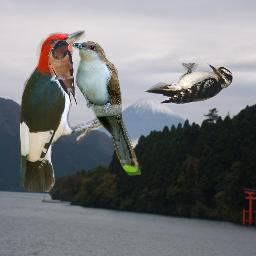Cuckoo: (72, 41, 141, 176)
Swallow: (48, 40, 77, 106)
Woodpecker: (18, 30, 105, 192), (144, 63, 238, 107)
